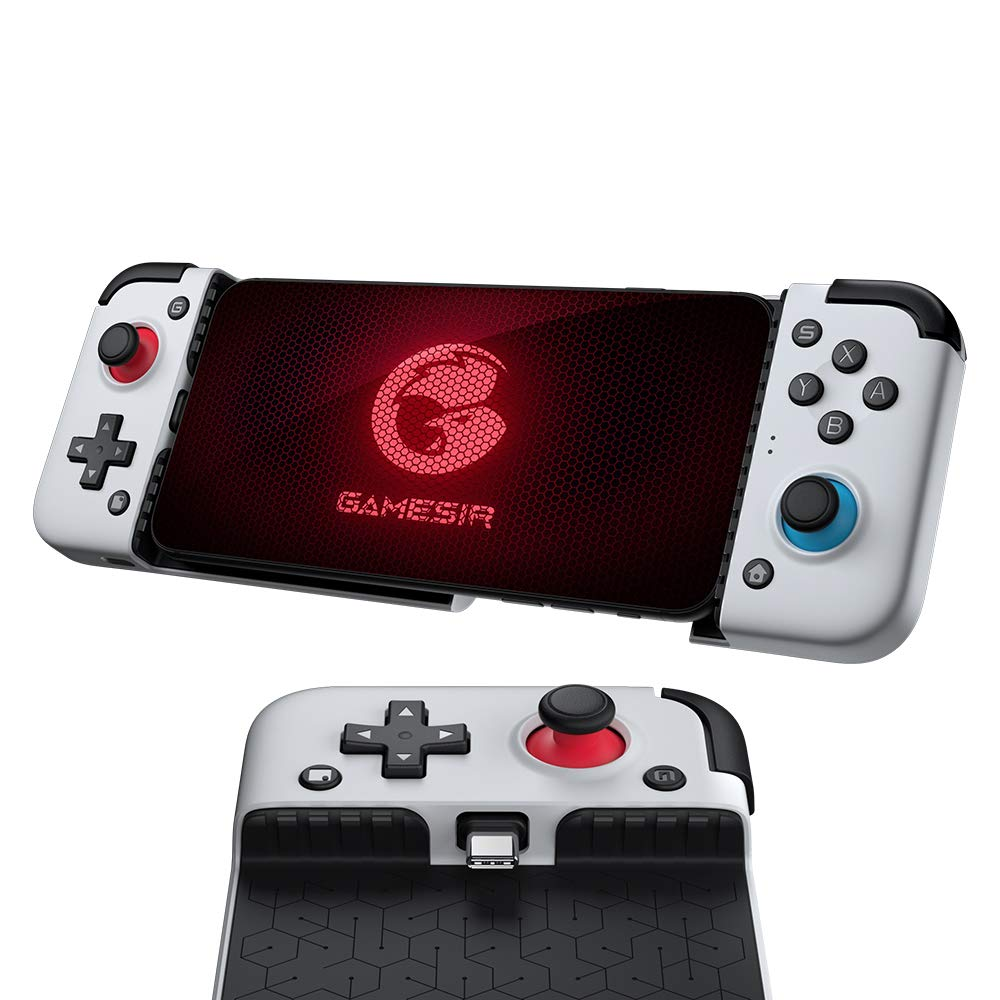controller: (33, 261, 970, 664)
